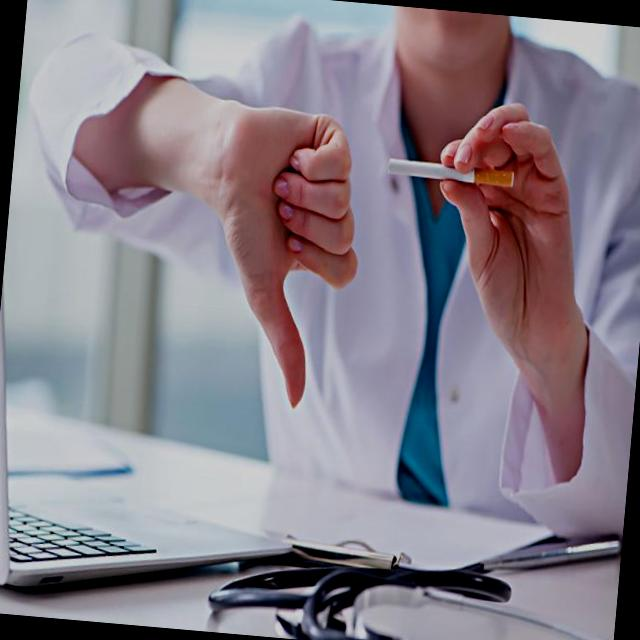smoke: (378, 145, 519, 200)
